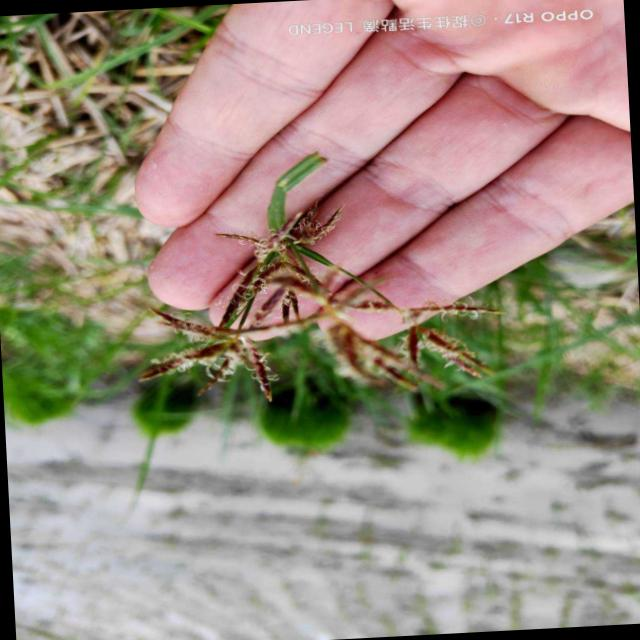cyperus: (125, 167, 502, 420)
